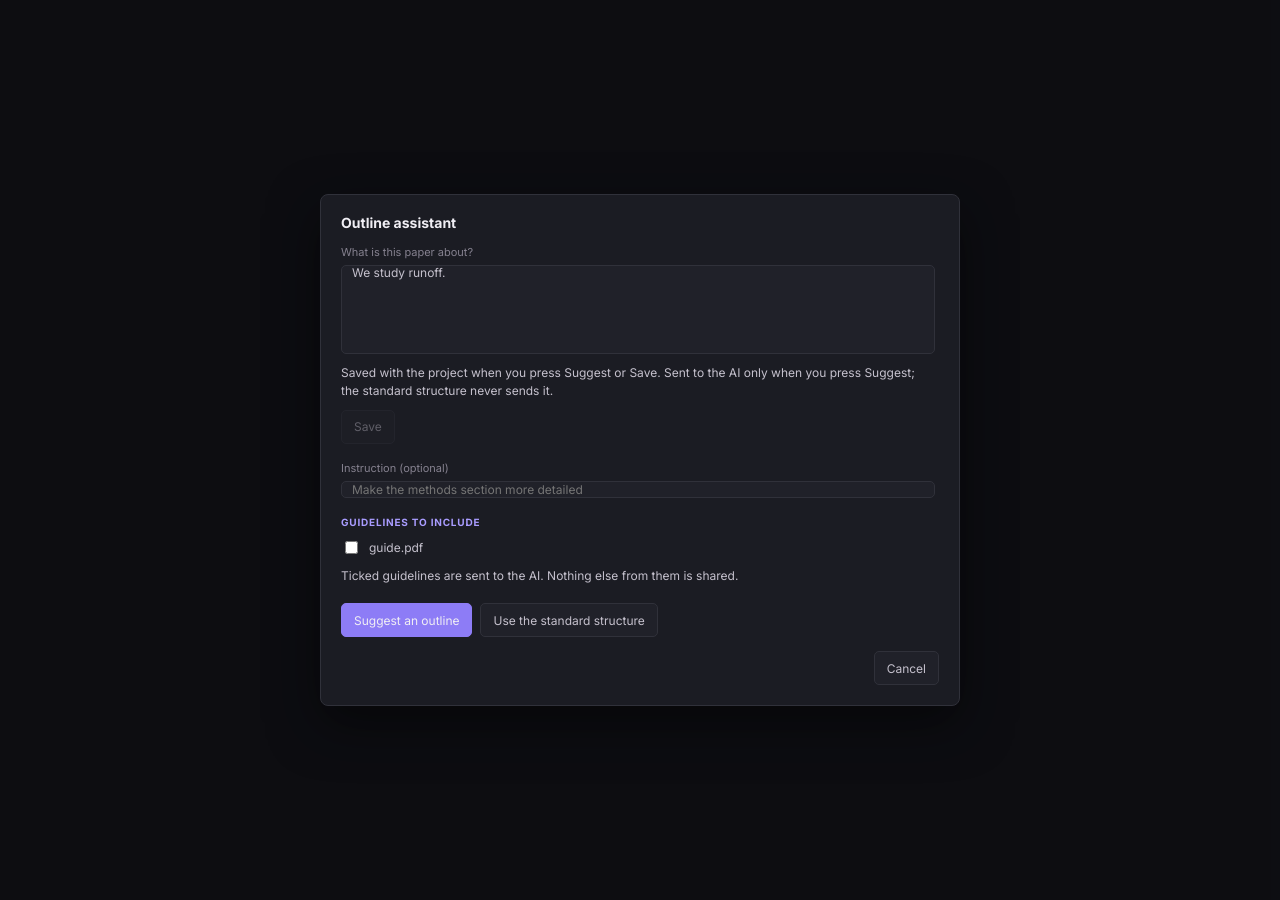
Test: OutlineAssistantDialog › the standard structure needs no AI
Click the button "Use the standard structure" at (569, 620), box [480,603,658,637]
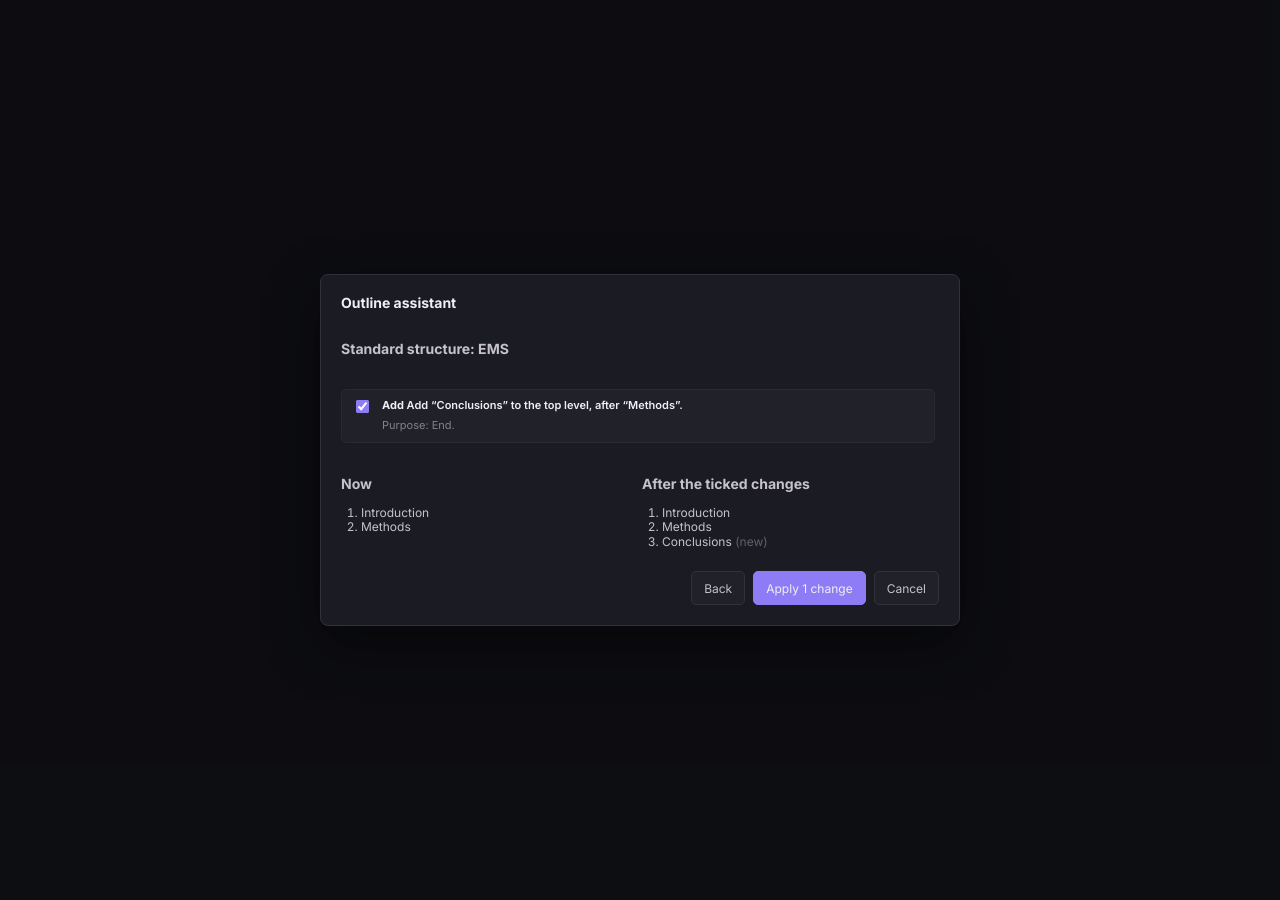
Result: the text "Standard structure: EMS" is shown at [341,340,509,357]
Result: the text "Conclusions" is shown at [407,398,683,412]
